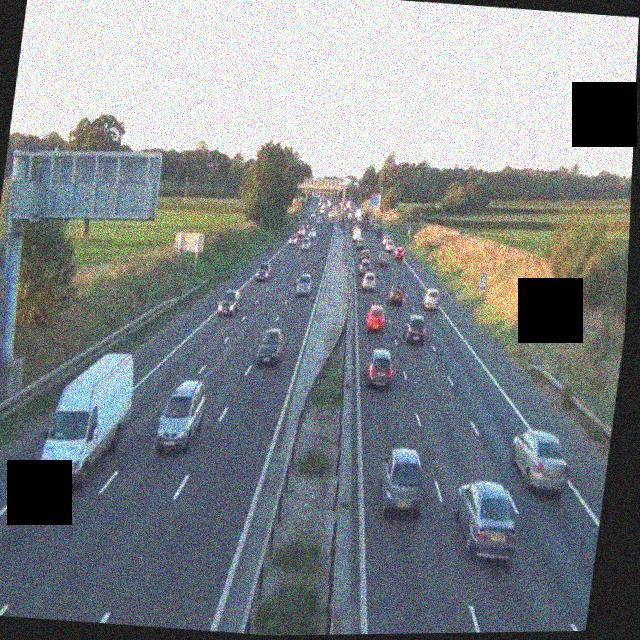car: (449, 478, 522, 560), (507, 426, 573, 494), (155, 376, 207, 455), (376, 446, 428, 516), (364, 347, 395, 389), (257, 326, 285, 365), (403, 313, 426, 345), (217, 287, 241, 317), (365, 304, 387, 332), (420, 288, 440, 311), (294, 272, 313, 295), (388, 283, 405, 306), (255, 260, 272, 281), (360, 270, 377, 289), (357, 255, 372, 274), (392, 246, 404, 262), (378, 252, 390, 267), (301, 236, 313, 251)
truck: (34, 345, 139, 498), (350, 221, 363, 244)
